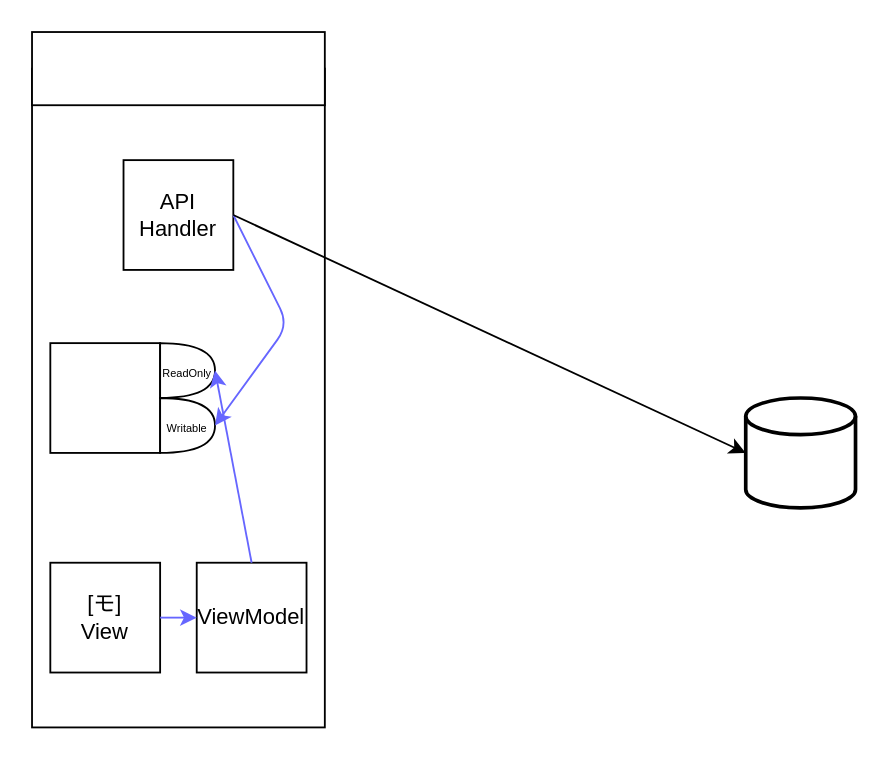
This 889x759 diagram has some shape labels left out. Each missing label, with the centre of its shape:
API: (x=799, y=452)
Food3DModel: (x=177, y=67)
Repository: (x=104, y=397)
